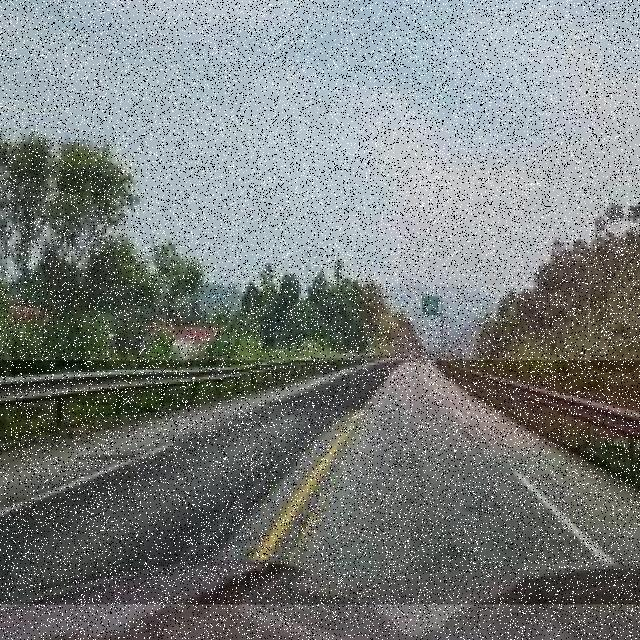clear-road: (0, 361, 640, 604)
